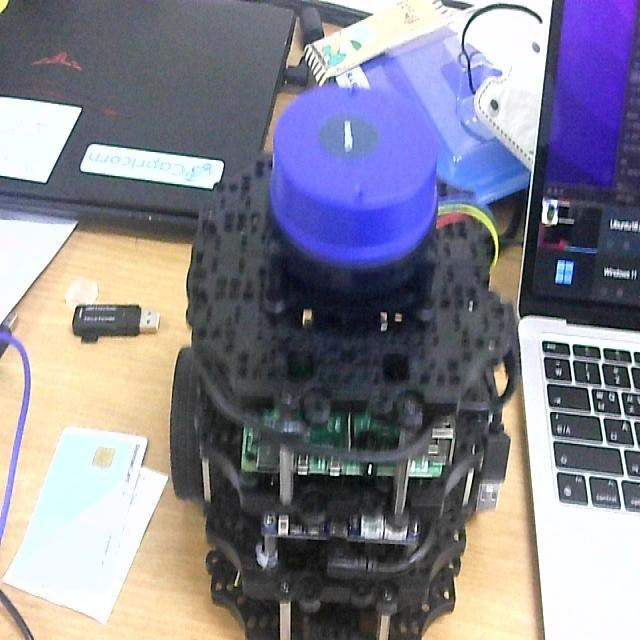turtle: (166, 84, 521, 640)
